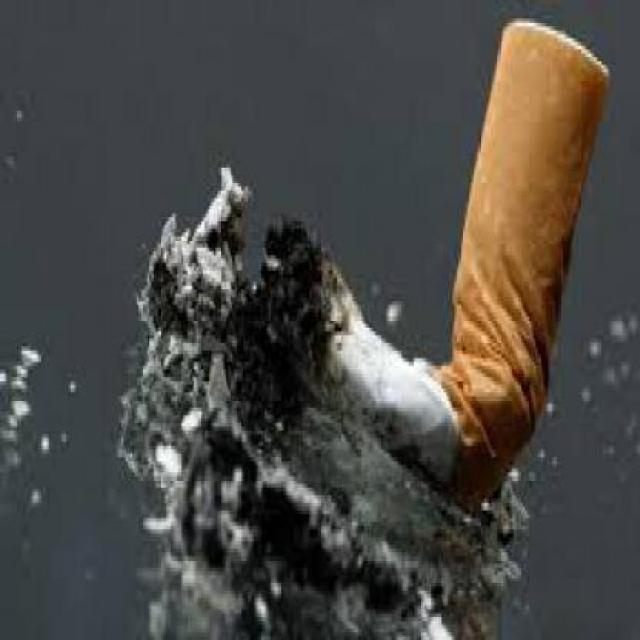cigarette: (258, 35, 625, 499)
